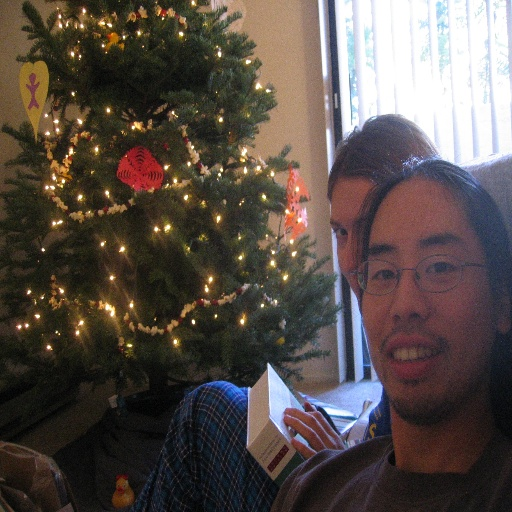hand: (286, 402, 337, 464)
